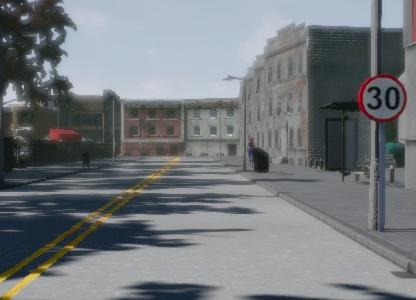Speed_30: (356, 71, 410, 125)
